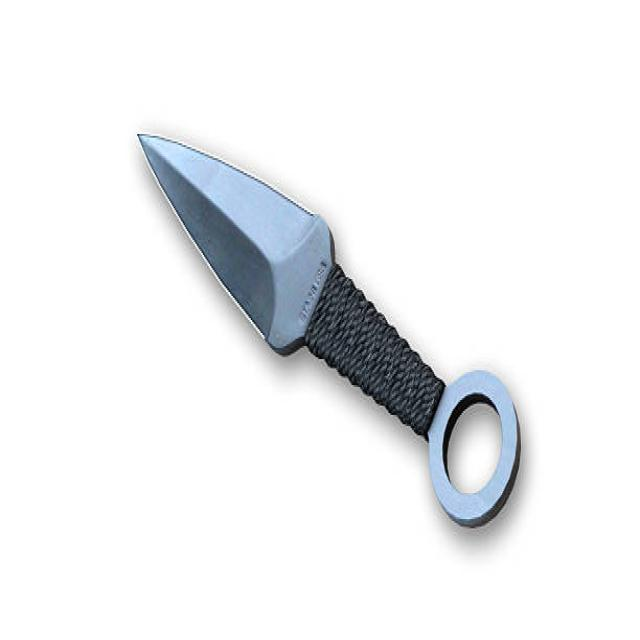knife: (135, 127, 526, 539)
